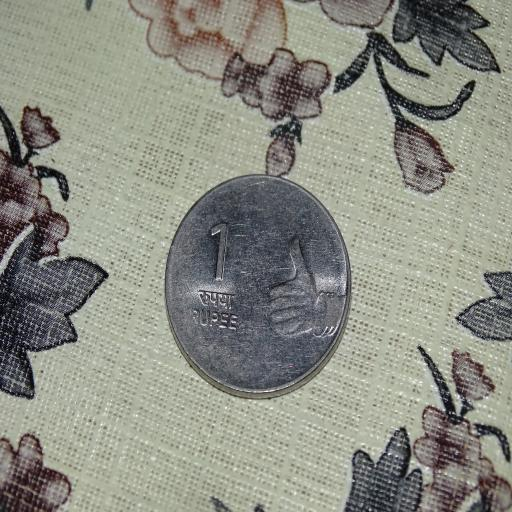rupee1: (163, 176, 345, 398)
